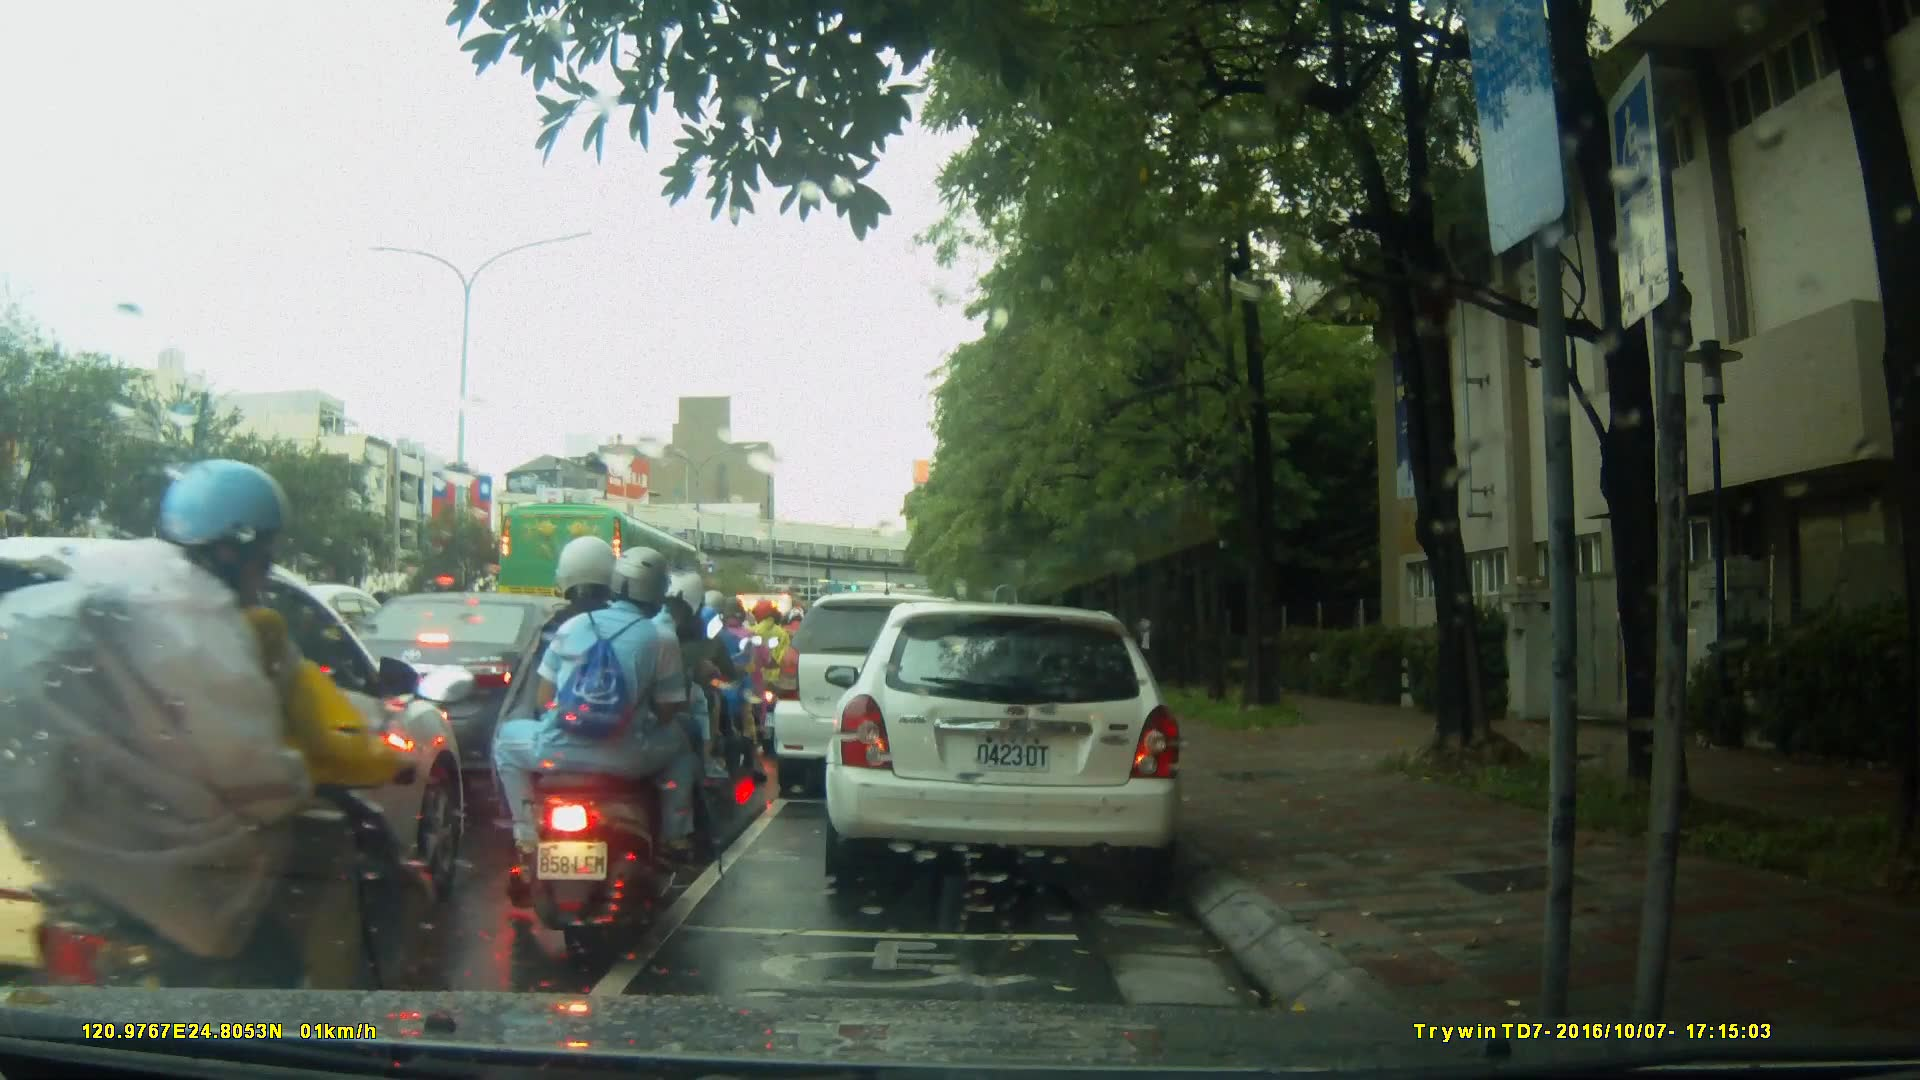rider: (2, 466, 482, 1060), (492, 541, 725, 959), (597, 562, 718, 836), (688, 585, 767, 787), (706, 598, 778, 764), (749, 598, 797, 737)
vehicle: (3, 536, 459, 987), (831, 592, 1196, 897), (312, 590, 629, 776), (773, 590, 999, 803), (497, 502, 712, 636)
